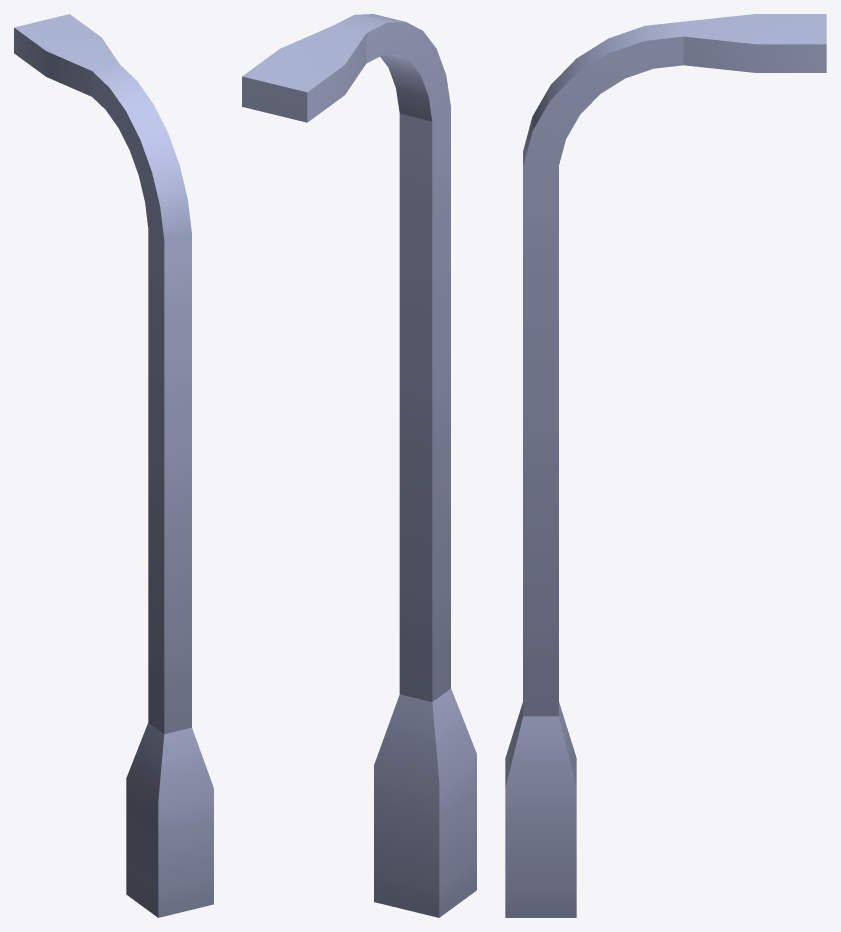
Rendered from light-curved.glb.
3 renders of one model, left to right at view 1: azimuth 30°, elevation 25°; view 2: azimuth 150°, elevation 25°; view 3: azimuth 270°, elevation 25°, orthographic. The views are drawn at different scales.
Parts seen in each view (by area): view 1: light-curved; view 2: light-curved; view 3: light-curved.
Part boxes in pixels (x1,y1,x2,y2): light-curved: [14, 14, 213, 917]; light-curved: [242, 14, 476, 917]; light-curved: [505, 14, 826, 917].
Size of the model in its own units: 0.05 by 0.675 by 0.225.
Materials: 1 (1 with a texture image).
